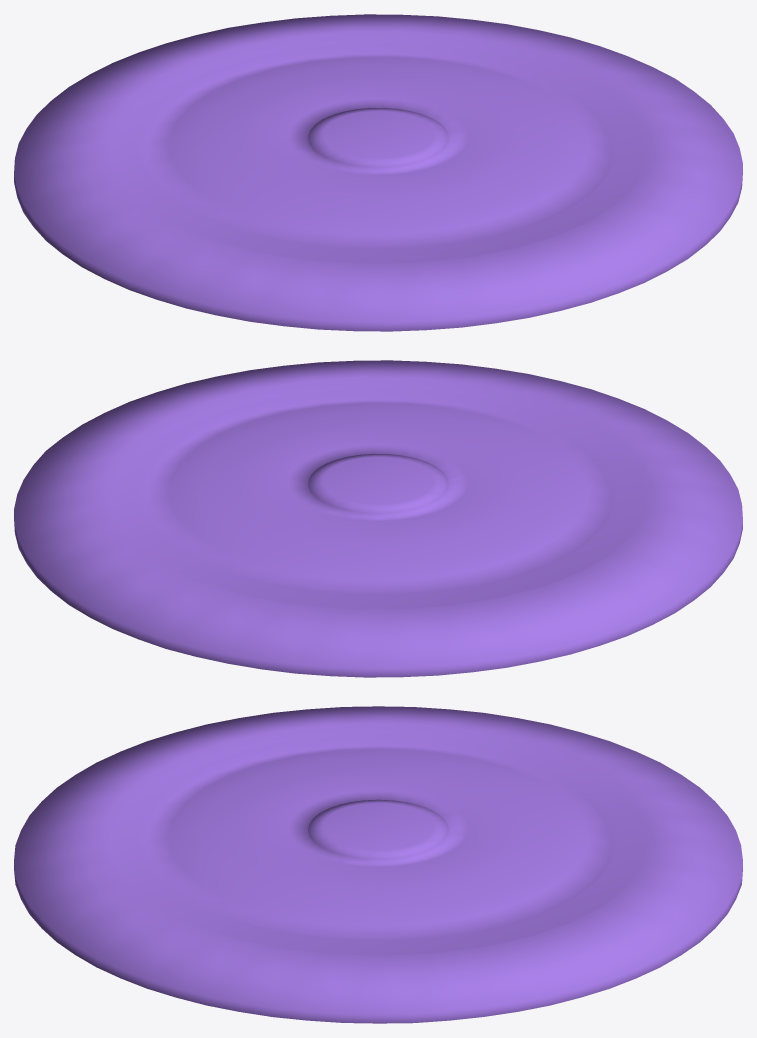
Rendered from Point.fbx.
3 renders of one model, top to bottom at view 1: azimuth 30°, elevation 25°; view 2: azimuth 150°, elevation 25°; view 3: azimuth 270°, elevation 25°, orthographic.
Parts seen in each view (by area): view 1: Low; view 2: Low; view 3: Low.
Part boxes in pixels (box(x1,y1,x2,y2)): Low: box(14, 14, 742, 331); Low: box(14, 360, 742, 677); Low: box(14, 706, 742, 1023).
Size of the model in its own units: 300 by 19.41 by 300.
